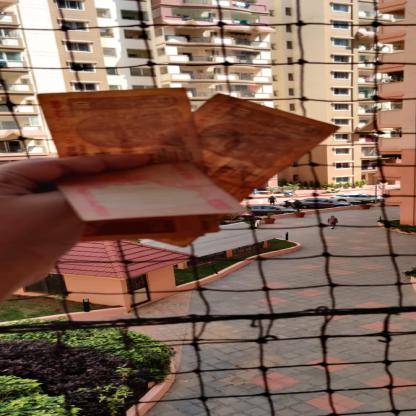Old10Front: (148, 86, 340, 249), (36, 87, 220, 232)
Old20Back: (54, 162, 251, 242)
